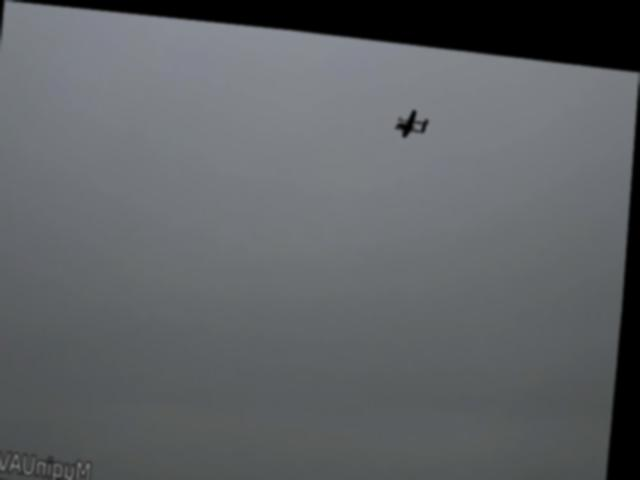plane: (395, 98, 430, 131)
